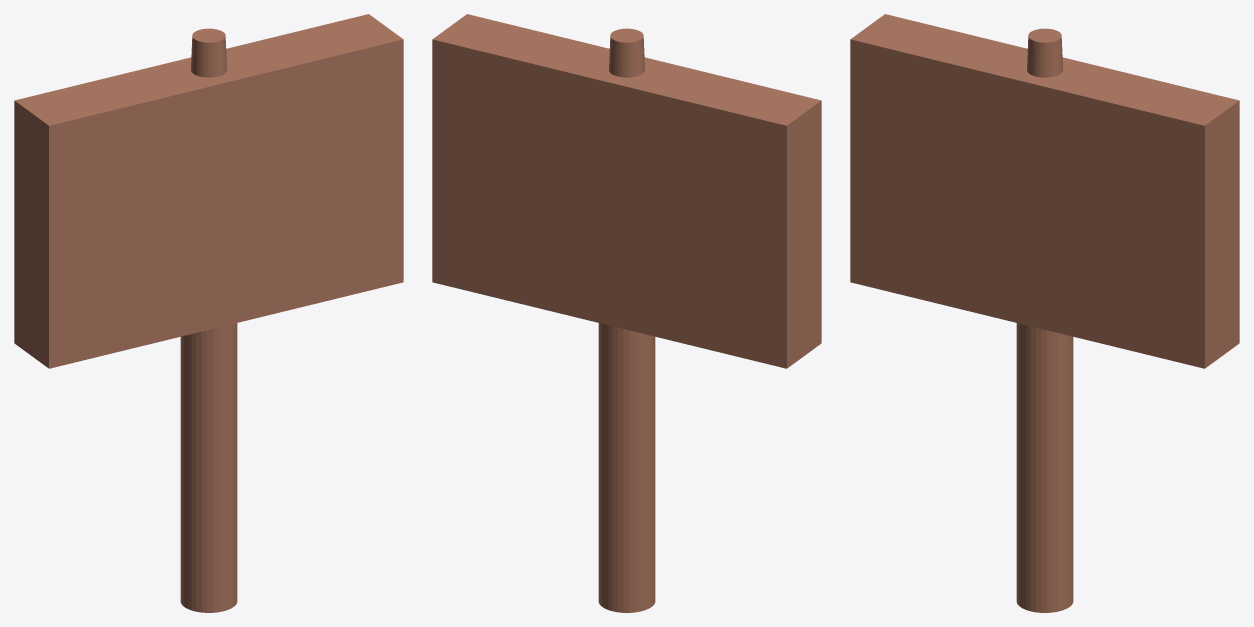
The model's file is sign.fbx.
3 views of the same model, side by side, from view 1: azimuth 30°, elevation 25°; view 2: azimuth 150°, elevation 25°; view 3: azimuth 330°, elevation 25° (orthographic).
Visible parts, largest first — view 1: 1_sign; view 2: 1_sign; view 3: 1_sign.
Part boxes in pixels (box(x1,y1,x2,y2)): 1_sign: box(14, 14, 403, 612); 1_sign: box(432, 14, 821, 612); 1_sign: box(850, 14, 1239, 612).
Size of the model in its own units: 684 by 1042 by 116.
